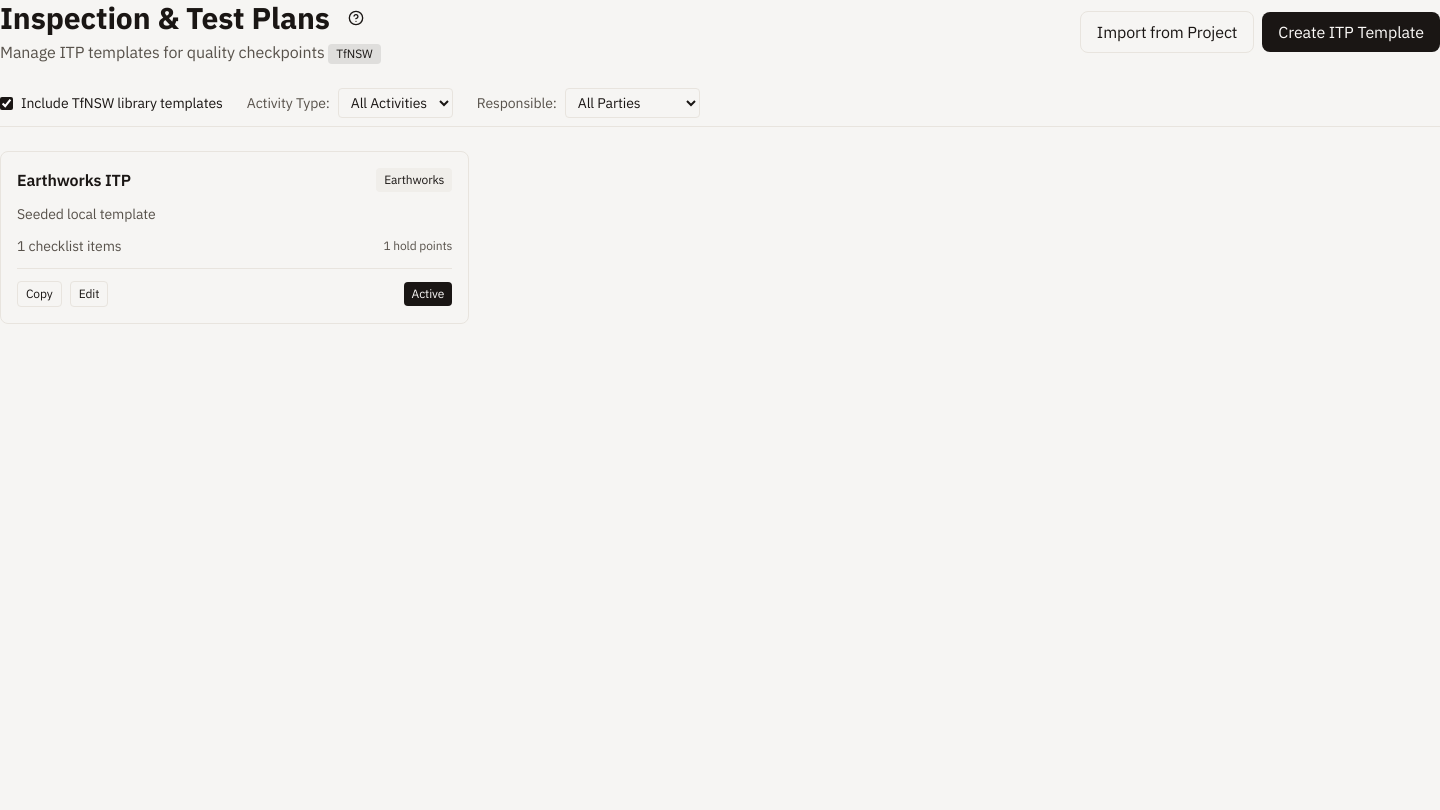
Test case: ITPPage template edit error handling › surfaces the 409 TEMPLATE_IN_USE message inside the edit modal and keeps it open
Click the button "Edit" at x=89, y=294, box [70,281,108,307]
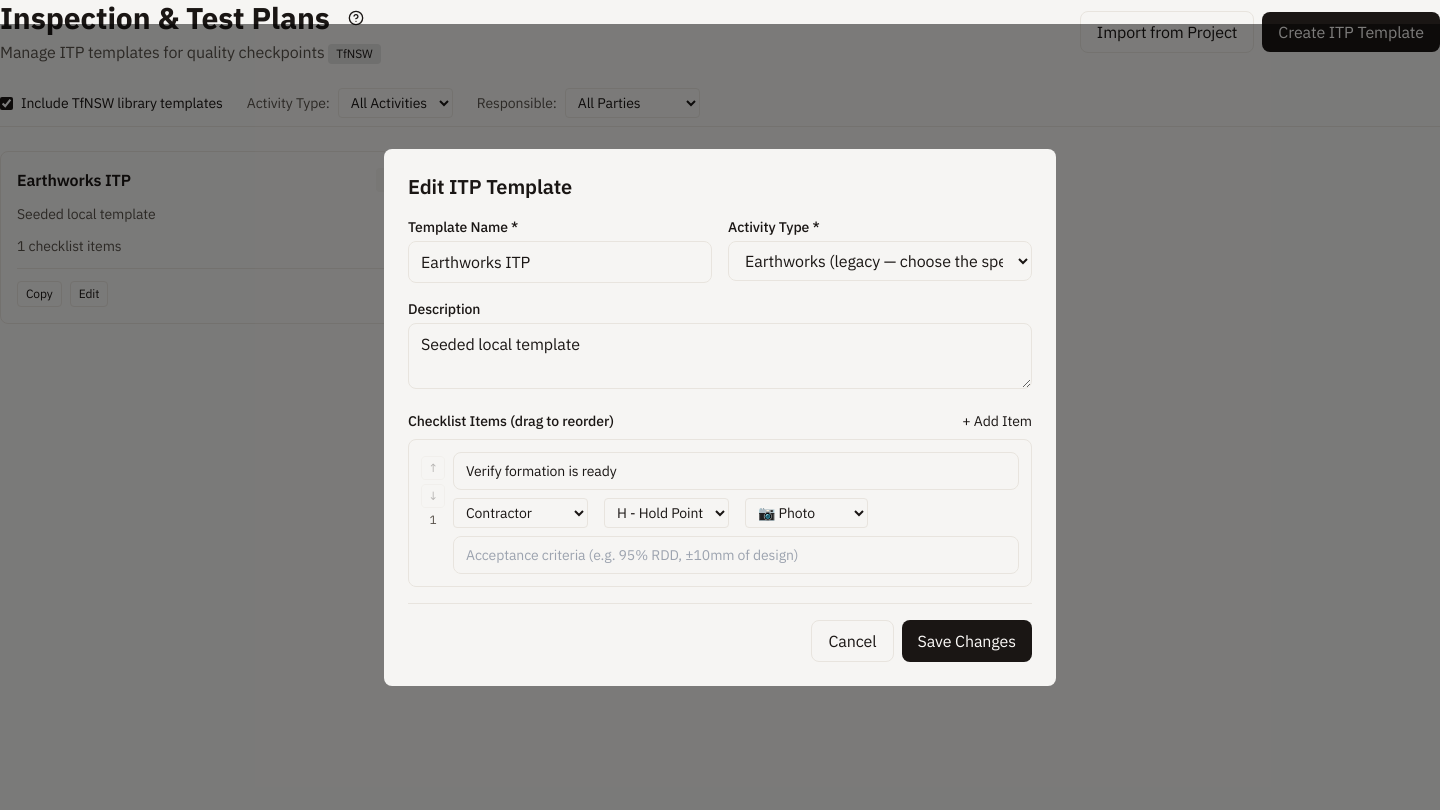
Expected: the heading "Edit ITP Template" is shown, [408,172,572,200]
Click the button "Save Changes" at x=967, y=640, box [902,620,1032,662]
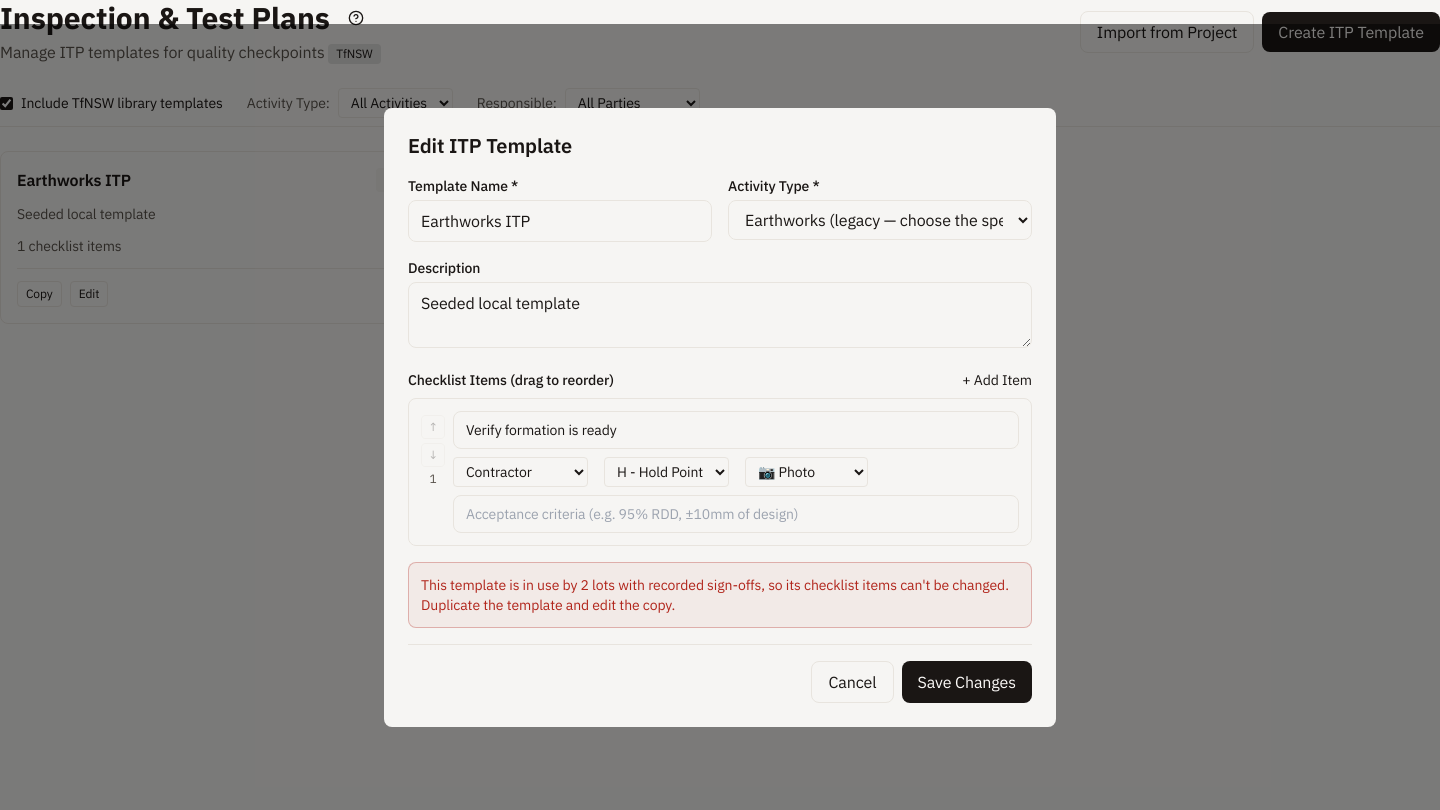
Expected: the heading "Edit ITP Template" is shown, [408,132,572,158]
Expected: the message shows "This template is in use by 2 lots with recorded sign-offs, so its checklist items can't be changed. Duplicate the template and edit the copy.", [421,576,1009,614]
